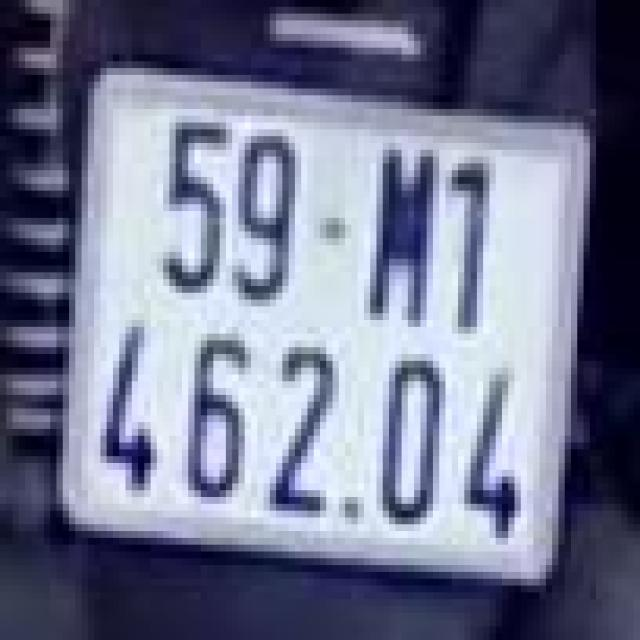0: (370, 344, 452, 534)
1: (448, 143, 492, 340)
2: (267, 334, 342, 524)
4: (458, 348, 540, 558), (94, 310, 163, 500)
5: (150, 99, 226, 303)
6: (172, 313, 260, 518)
9: (235, 119, 311, 310)
M: (358, 130, 446, 340)
